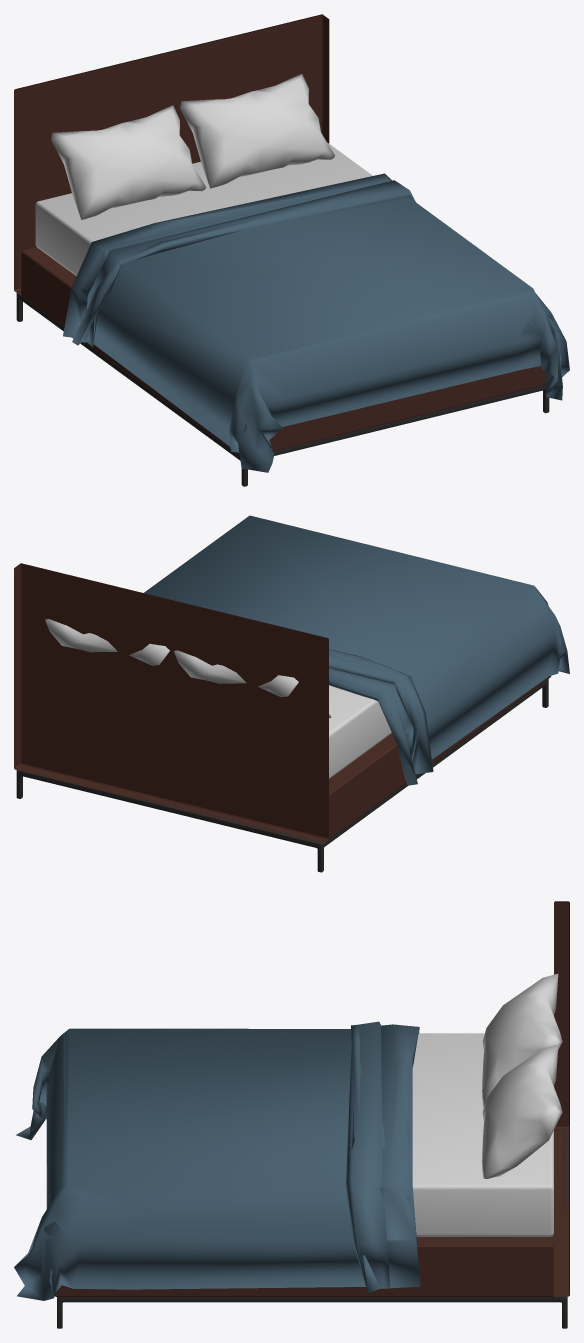
The model's file is Cama_Familia.fbx.
3 views of the same model, one above another, from view 1: azimuth 30°, elevation 25°; view 2: azimuth 150°, elevation 25°; view 3: azimuth 270°, elevation 25° (orthographic). The views are drawn at different scales.
Visible parts, largest first — view 1: cama, Plane.002, Mattress, Plane.008, Plane.005; view 2: Plane.002, cama, Mattress, Plane.005, Plane.008; view 3: cama, Plane.002, Mattress, Plane.008, Plane.005.
Part boxes in pixels (left/top/right/bottom): cama: left=63, top=173, right=569, bottom=472; Plane.002: left=14, top=14, right=549, bottom=486; Mattress: left=35, top=142, right=372, bottom=275; Plane.008: left=180, top=74, right=334, bottom=188; Plane.005: left=51, top=105, right=206, bottom=219; Plane.002: left=14, top=563, right=551, bottom=872; cama: left=144, top=515, right=569, bottom=785; Mattress: left=329, top=685, right=391, bottom=778; Plane.005: left=174, top=650, right=331, bottom=718; Plane.008: left=45, top=619, right=169, bottom=665; cama: left=14, top=1021, right=420, bottom=1300; Plane.002: left=54, top=901, right=569, bottom=1328; Mattress: left=412, top=1033, right=553, bottom=1236; Plane.008: left=482, top=1044, right=562, bottom=1178; Plane.005: left=482, top=973, right=562, bottom=1107.
Size of the model in its own units: 224 by 139 by 270.
